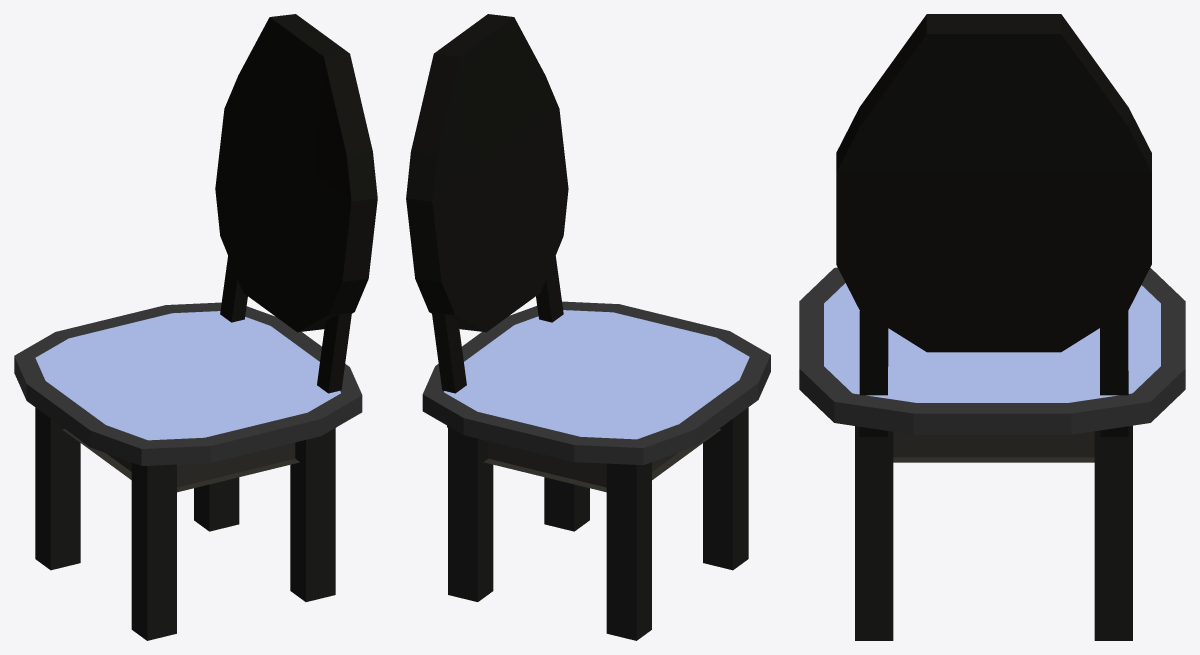
File: chear.fbx
The picture shows the model from 3 angles, left to right: view 1: azimuth 30°, elevation 25°; view 2: azimuth 150°, elevation 25°; view 3: azimuth 270°, elevation 25°; orthographic projection. The views are drawn at different scales.
Parts seen in each view (by area): view 1: Top; view 2: Top; view 3: Top.
Part boxes in pixels (left/top/right/bottom): Top: left=14, top=14, right=377, bottom=640; Top: left=406, top=14, right=770, bottom=640; Top: left=799, top=14, right=1185, bottom=640.
Bounding box in the file's own units: 240 × 444 × 244.
